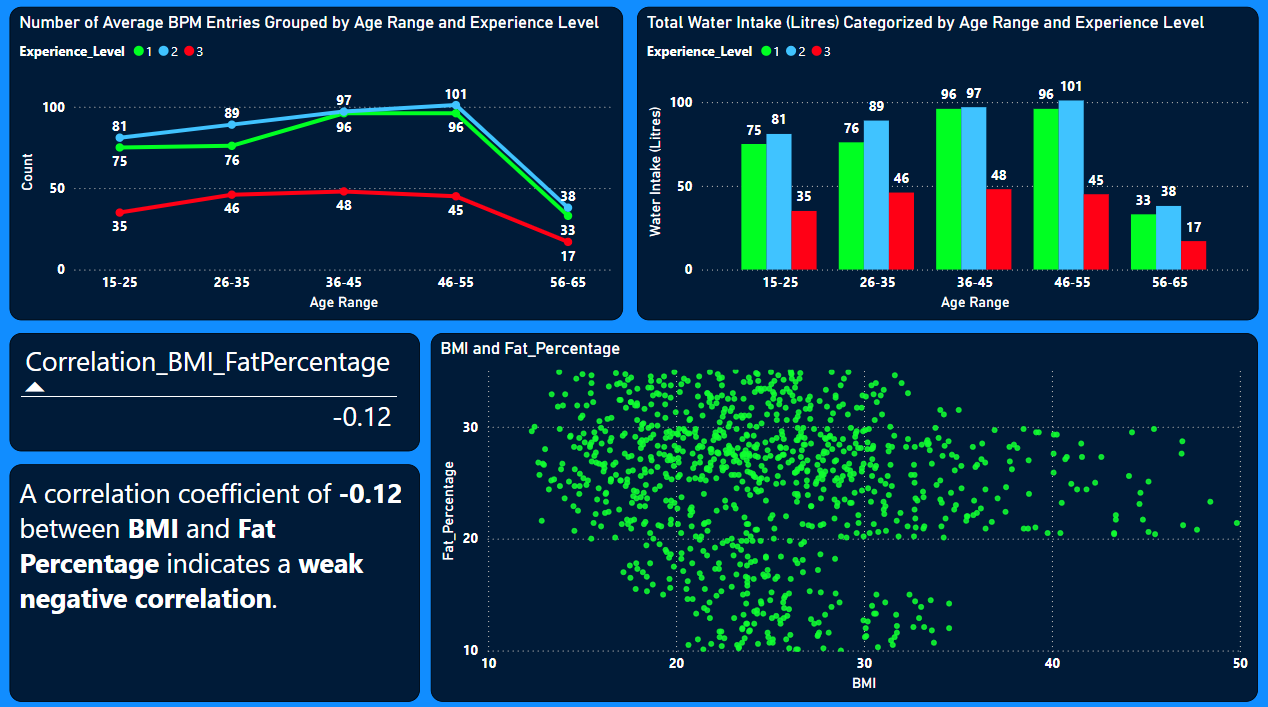

This screenshot's page, from the dashboard's own definition file:
{"tool":"powerbi","page":{"name":"Page 2","canvas":[1280,720],"ordinal":1},"visuals":[{"type":"clusteredColumnChart","title":" Total Water Intake (Litres) Categorized by Age Range and Experience Level","fields":{"Series":["gym_members_exercise_tracking.Experience_Level"],"Y":["CountNonNull(gym_members_exercise_tracking.Water_Intake (liters))"],"Category":["gym_members_exercise_tracking.Age Range"]},"box":[640,13.8,621.2,313.8],"z":0},{"type":"lineChart","title":"Number of Average BPM Entries Grouped by Age Range and Experience Level","fields":{"Category":["gym_members_exercise_tracking.Age Range"],"Y":["CountNonNull(gym_members_exercise_tracking.Avg_BPM)"],"Series":["gym_members_exercise_tracking.Experience_Level"]},"box":[12.5,13.8,613.8,313.8],"z":1000},{"type":"tableEx","fields":{"Values":["gym_members_exercise_tracking.Correlation_BMI_FatPercentage"]},"box":[12.5,340,410,118.8],"z":2000},{"type":"scatterChart","fields":{"X":["gym_members_exercise_tracking.BMI"],"Y":["gym_members_exercise_tracking.Fat_Percentage"]},"box":[433.8,340,827.5,368.8],"z":2001},{"type":"textbox","box":[12.5,471.2,410,237.5],"z":2002}]}

Visuals, with their boxes in screenshot pixels (x1, y1, x2, y2), scaled from the page's 1280x720 canvas onto the 1268x707 screenshot:
" Total Water Intake (Litres) Categorized by Age Range and Experience Level" clusteredColumnChart: bbox(634, 14, 1249, 322)
"Number of Average BPM Entries Grouped by Age Range and Experience Level" lineChart: bbox(12, 14, 620, 322)
tableEx - gym_members_exercise_tracking.Correlation_BMI_FatPercentage: bbox(12, 334, 419, 451)
scatterChart - gym_members_exercise_tracking.BMI x gym_members_exercise_tracking.Fat_Percentage: bbox(430, 334, 1249, 696)
textbox: bbox(12, 463, 419, 696)
